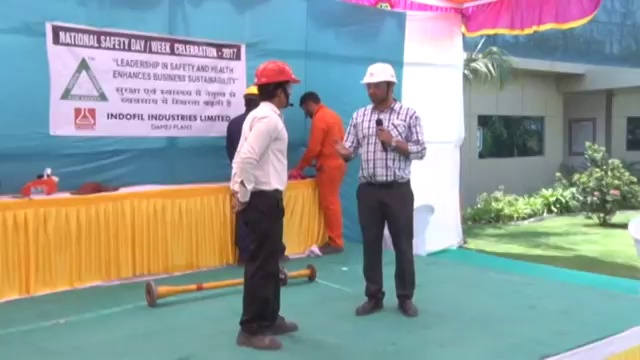helmet: (251, 60, 303, 86), (357, 60, 400, 87), (241, 84, 260, 97)
helmet_off: (297, 89, 324, 121)
helmet_on: (251, 58, 303, 113), (356, 59, 402, 109), (240, 83, 262, 115)
person: (338, 59, 426, 320), (232, 58, 300, 352), (296, 87, 347, 254), (226, 83, 263, 168)
